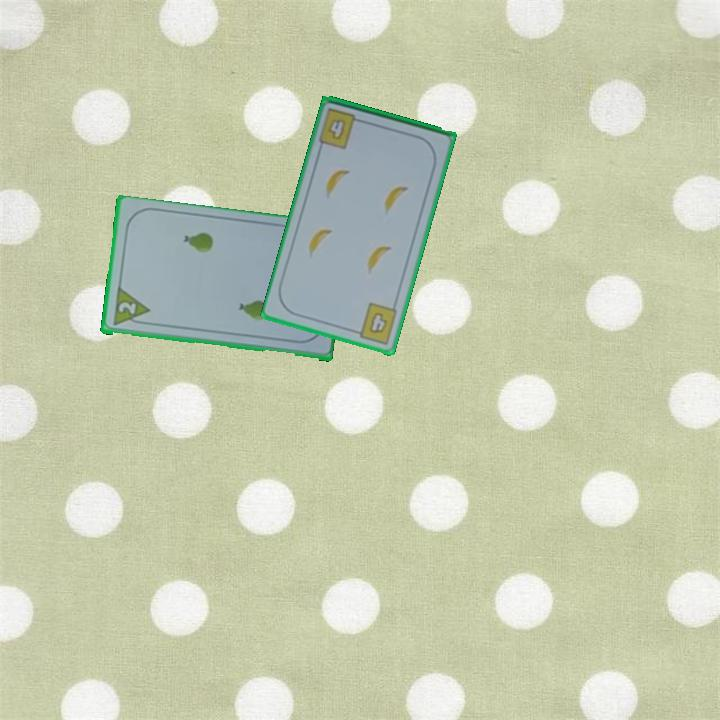2p: (114, 298, 139, 318)
4b: (350, 299, 400, 347), (318, 105, 367, 152)
